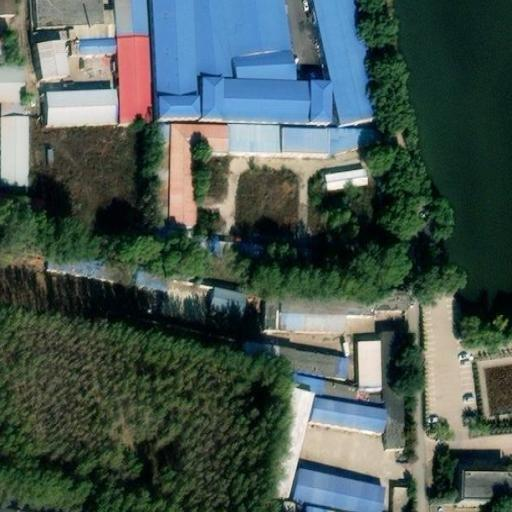building: (144, 135, 222, 237), (182, 91, 325, 136), (257, 395, 307, 510), (148, 236, 309, 271), (139, 0, 182, 110), (261, 296, 366, 329), (302, 401, 383, 442), (222, 133, 324, 163), (274, 348, 341, 383), (36, 99, 103, 129), (0, 110, 21, 194), (44, 250, 109, 275), (143, 108, 191, 138), (455, 485, 507, 512), (0, 198, 37, 235), (354, 340, 380, 387), (237, 341, 278, 370), (111, 81, 138, 121), (132, 261, 171, 288), (26, 54, 56, 89), (367, 284, 410, 308), (0, 59, 25, 99), (204, 288, 241, 314), (319, 172, 362, 190), (45, 206, 74, 232), (68, 45, 108, 62), (107, 44, 133, 60), (340, 256, 366, 271), (387, 489, 403, 512)
